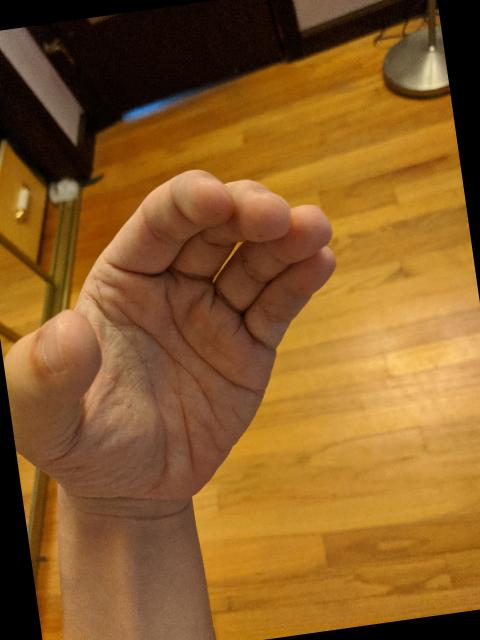C: (0, 138, 372, 540)
